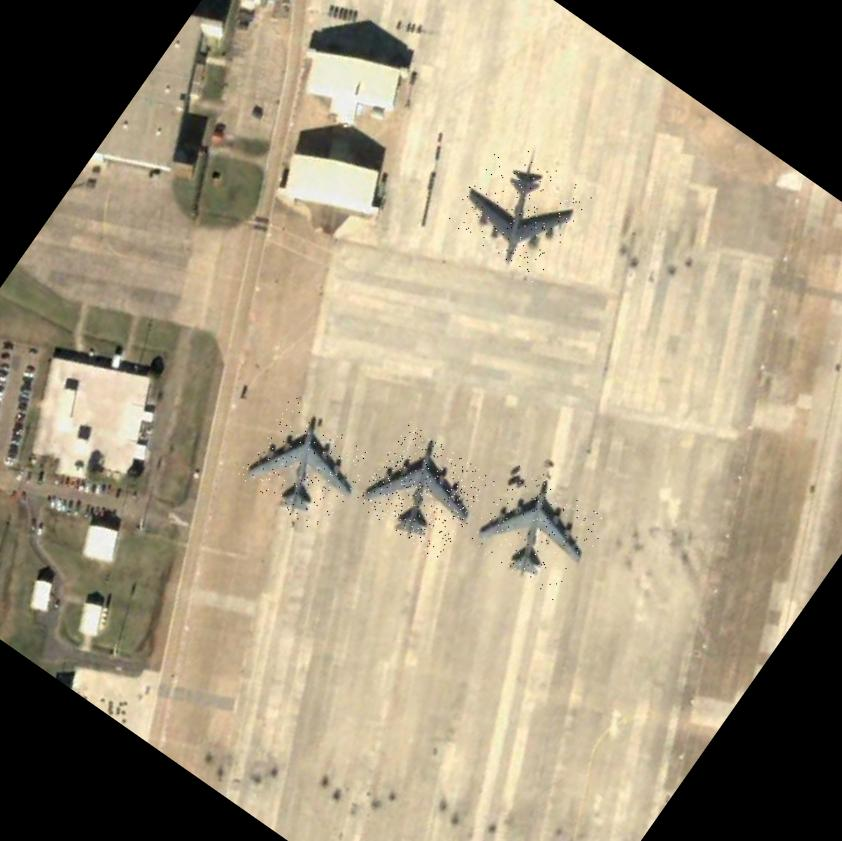A8: (444, 133, 595, 283), (466, 459, 610, 602), (235, 395, 378, 536), (354, 422, 497, 562)
